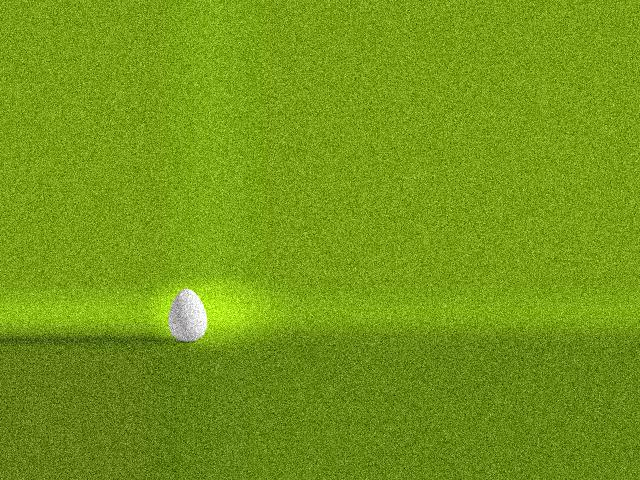egg: (168, 288, 206, 341)
